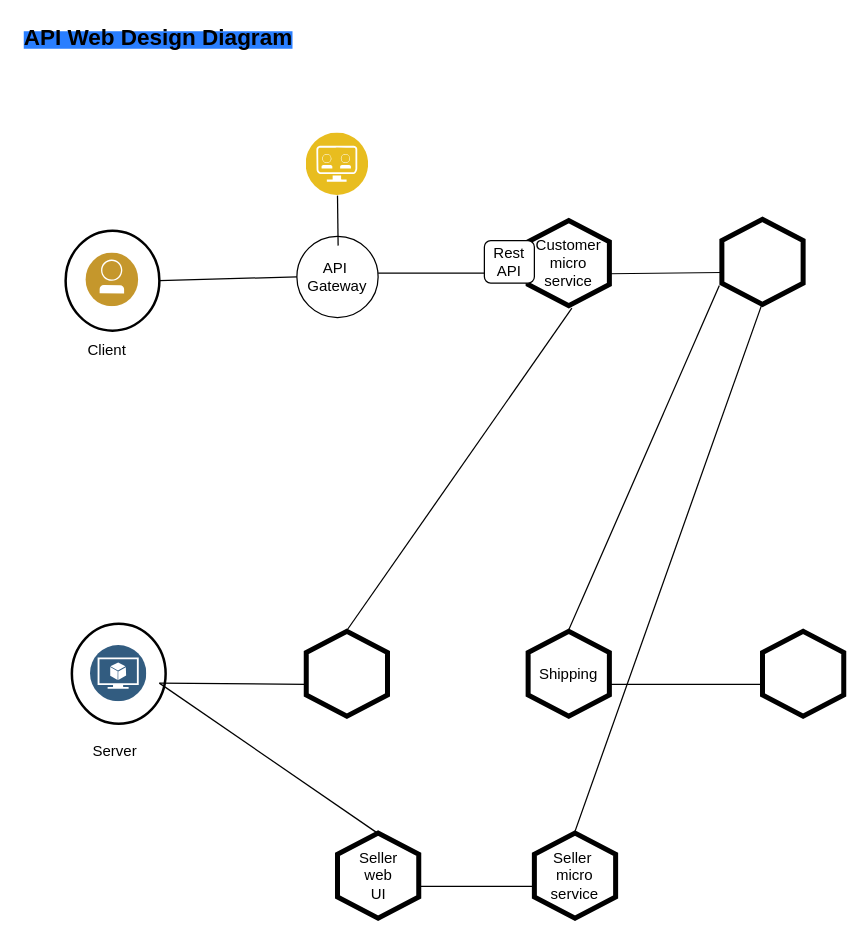
Some shapes in this 868 by 941 pixel diagram are drawn without their labels. Here are the shapes that lost their labels. From the top down, the centre of each, then its label:
At (x=762, y=261): "Product micro service".
At (x=346, y=673): "Customer web UI".
At (x=802, y=673): "Payment micro service".
